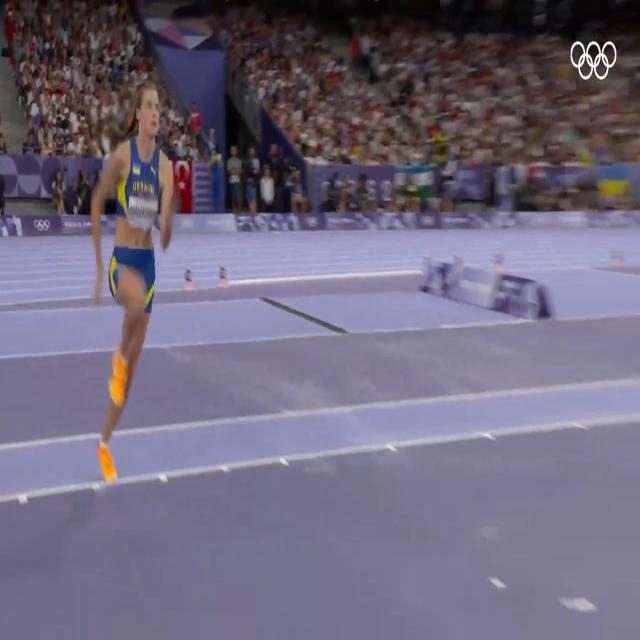run: (90, 78, 178, 484)
